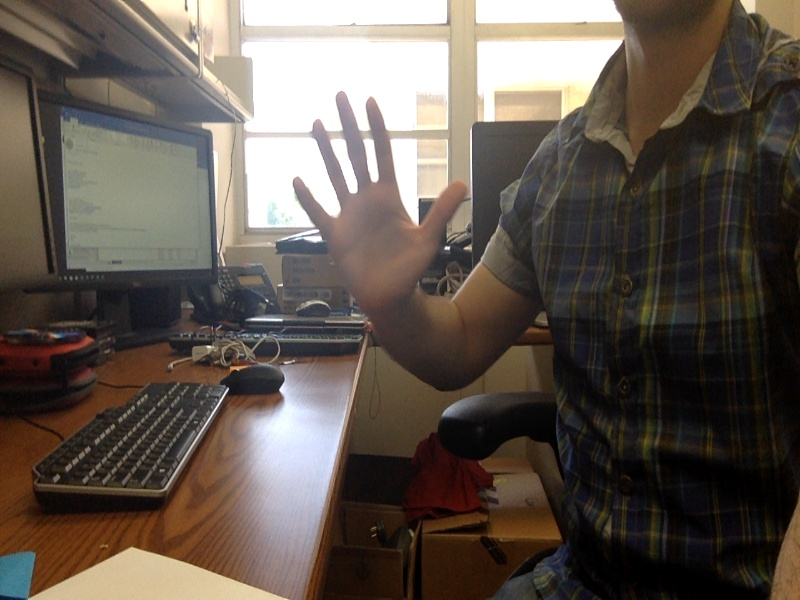5-hand: (294, 94, 471, 317)
